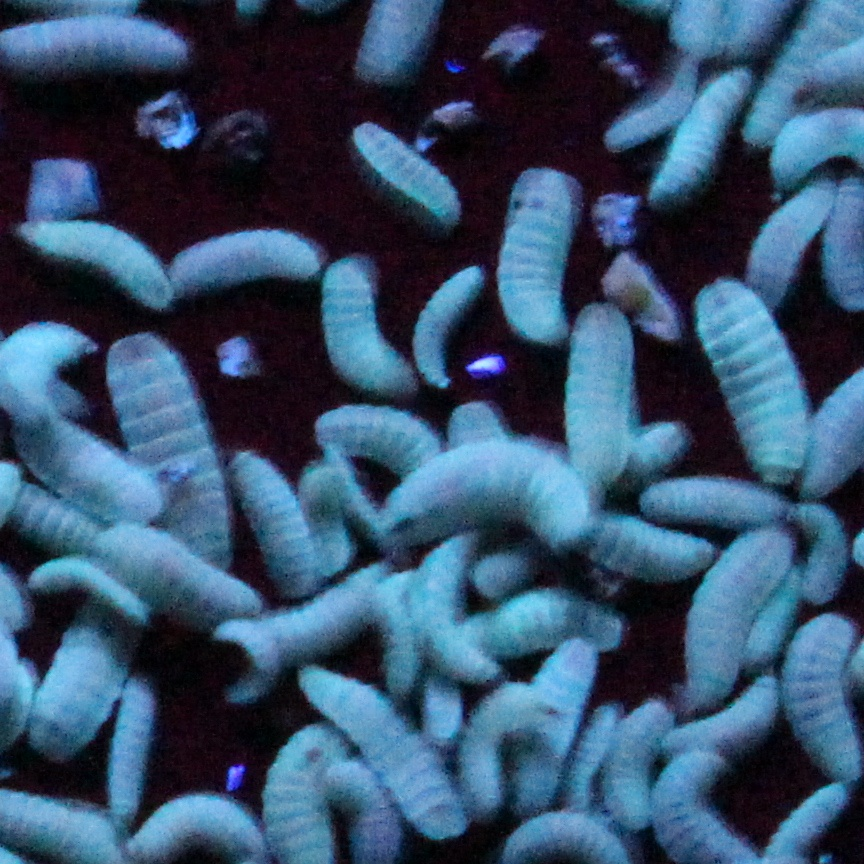larve: (93, 324, 245, 571), (3, 321, 168, 531), (293, 666, 473, 839), (700, 286, 828, 484), (205, 581, 385, 701), (388, 449, 580, 554), (680, 524, 788, 696), (505, 631, 600, 816), (28, 594, 133, 754), (303, 244, 410, 394), (15, 216, 178, 314), (560, 304, 638, 506), (225, 451, 330, 599), (643, 739, 760, 861), (413, 536, 505, 691), (510, 171, 588, 349), (740, 174, 838, 301), (593, 684, 678, 824), (663, 69, 745, 211), (160, 224, 325, 286), (363, 129, 463, 219), (410, 256, 475, 389), (788, 491, 863, 606), (315, 411, 443, 476), (615, 71, 695, 156), (625, 411, 695, 474)
